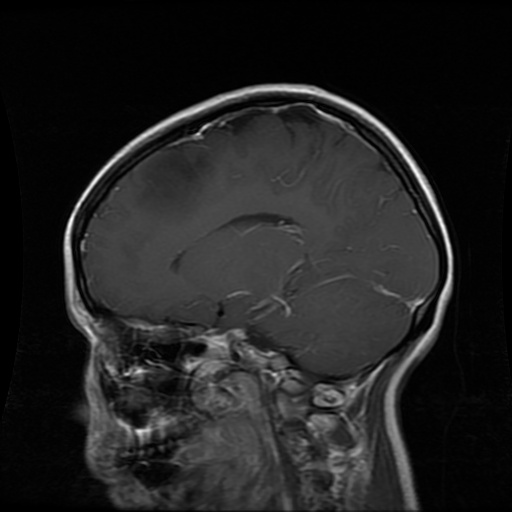glioma: (131, 144, 215, 217)
